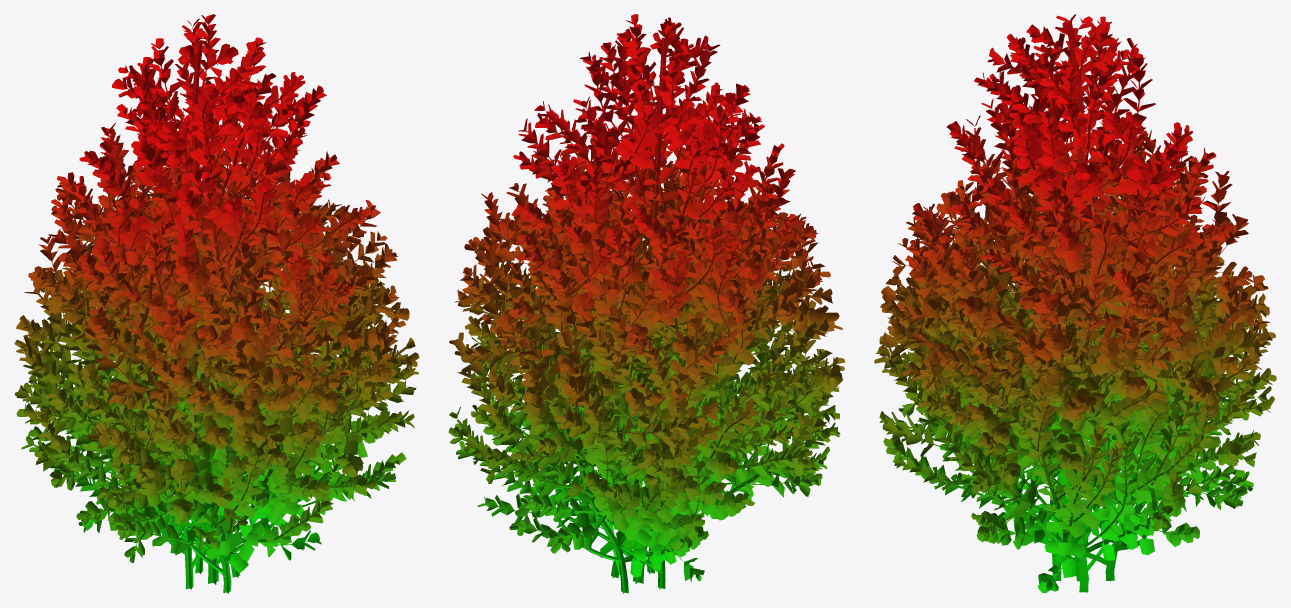
File: Var5_LOD3.fbx
3 views of the same model, side by side, from view 1: azimuth 30°, elevation 25°; view 2: azimuth 150°, elevation 25°; view 3: azimuth 270°, elevation 25° (orthographic).
Visible parts, largest first — view 1: _13r9_Var5_LOD3; view 2: _13r9_Var5_LOD3; view 3: _13r9_Var5_LOD3.
Boxes of the visible parts, bbox=[...] form: _13r9_Var5_LOD3: bbox=[14, 14, 419, 593]; _13r9_Var5_LOD3: bbox=[448, 14, 845, 593]; _13r9_Var5_LOD3: bbox=[874, 14, 1276, 593].
Size of the model in its own units: 80.68 by 123 by 80.06.
